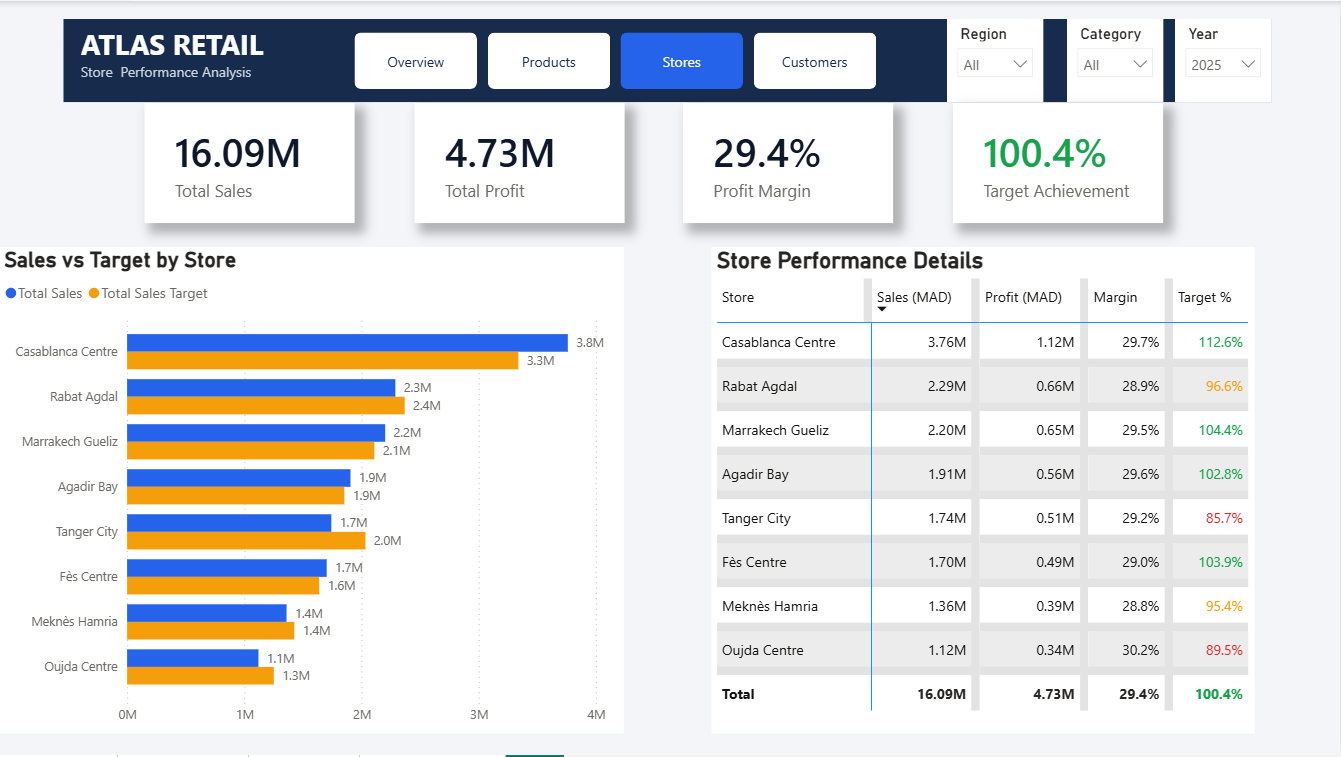

Layout of this report page (visuals, bound fields, positions):
{"tool":"powerbi","page":{"name":"Stores","canvas":[1280,720],"ordinal":2},"visuals":[{"type":"shape","box":[62,17.5,1153.2,79.5],"z":0},{"type":"slicer","fields":{"Values":["Dimdate.Year"]},"box":[1123,17.5,92.3,79.5],"z":1000},{"type":"textbox","box":[73.2,17.5,190.9,100.2],"z":2000},{"type":"slicer","fields":{"Values":["Products.Category"]},"box":[1019.6,17.5,92.3,79.5],"z":3000},{"type":"slicer","fields":{"Values":["Stores.Region"]},"box":[905.1,17.5,92.3,79.5],"z":4000},{"type":"cardVisual","fields":{"Data":["Sales.Total Sales"]},"box":[138.4,97,200.4,114.5],"z":5000},{"type":"cardVisual","fields":{"Data":["Sales.Total Profit"]},"box":[396.1,97,200.4,114.5],"z":6000},{"type":"cardVisual","fields":{"Data":["Sales.Profit Margin"]},"box":[653.7,97,200.4,114.5],"z":7000},{"type":"cardVisual","fields":{"Data":["Targets.Target Achievement"]},"box":[911.4,97,200.4,114.5],"z":8000},{"type":"clusteredBarChart","title":"Sales vs Target by Store","fields":{"Category":["Stores.Store Short Name"],"Y":["Sales.Total Sales","Targets.Total Sales Target"]},"box":[0,235.4,596.5,464.5],"z":9000},{"type":"pivotTable","title":"Store Performance Details","fields":{"Rows":["Stores.Store Short Name"],"Values":["Sales.Total Sales","Sales.Total Profit","Sales.Profit Margin","Targets.Target Achievement"]},"box":[680.8,235.4,518.5,464.5],"z":10000},{"type":"pageNavigator","box":[338.8,30.2,501,54.1],"z":11000}]}

Visuals, with their boxes in screenshot pixels (x1, y1, x2, y2), scaled from the page's 1280x720 canvas onto the 1341x757 screenshot:
shape: crop(65, 18, 1273, 102)
slicer - Dimdate.Year: crop(1177, 18, 1273, 102)
textbox: crop(77, 18, 277, 124)
slicer - Products.Category: crop(1068, 18, 1165, 102)
slicer - Stores.Region: crop(948, 18, 1045, 102)
cardVisual - Sales.Total Sales: crop(145, 102, 355, 222)
cardVisual - Sales.Total Profit: crop(415, 102, 625, 222)
cardVisual - Sales.Profit Margin: crop(685, 102, 895, 222)
cardVisual - Targets.Target Achievement: crop(955, 102, 1165, 222)
"Sales vs Target by Store" clusteredBarChart: crop(0, 247, 625, 736)
"Store Performance Details" pivotTable: crop(713, 247, 1256, 736)
pageNavigator: crop(355, 32, 880, 89)
